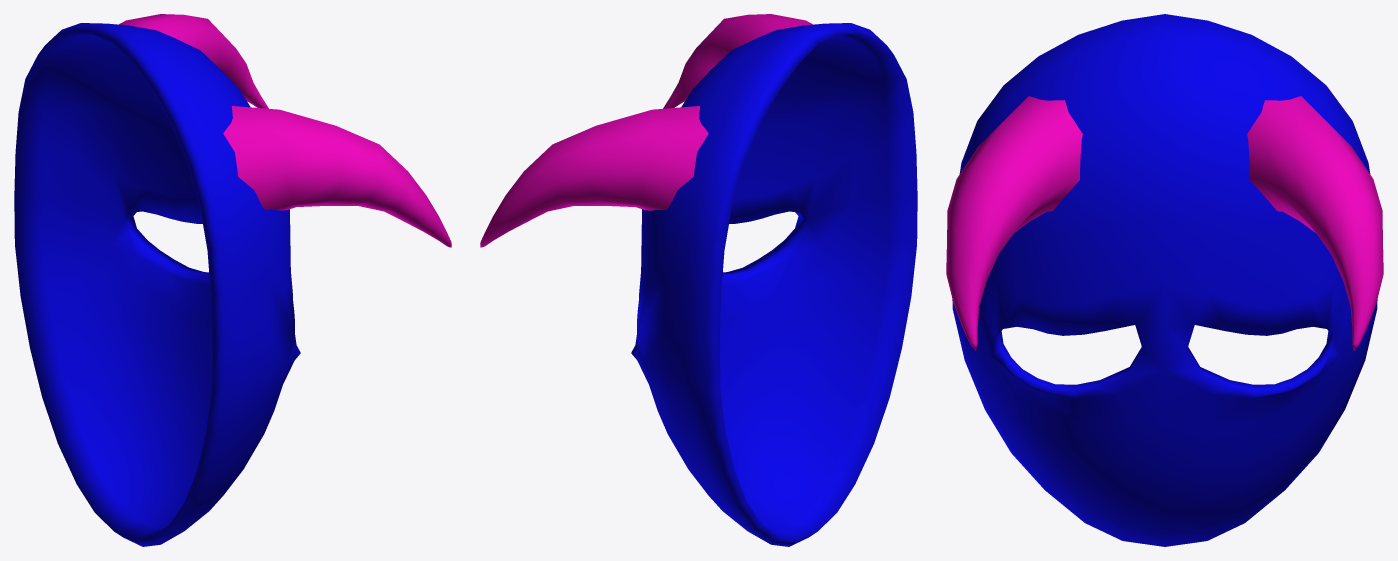
The model's file is SorrowEnemyMask.fbx.
3 views of the same model, side by side, from view 1: azimuth 30°, elevation 25°; view 2: azimuth 150°, elevation 25°; view 3: azimuth 270°, elevation 25° (orthographic). The views are drawn at different scales.
Parts seen in each view (by area): view 1: SorrowMask; view 2: SorrowMask; view 3: SorrowMask.
Boxes of the visible parts, x1,y1,x2,y2 form: SorrowMask: (14, 14, 451, 546); SorrowMask: (480, 14, 917, 546); SorrowMask: (946, 14, 1383, 546).
Bounding box in the file's own units: 35.7 × 69.23 × 52.09.
